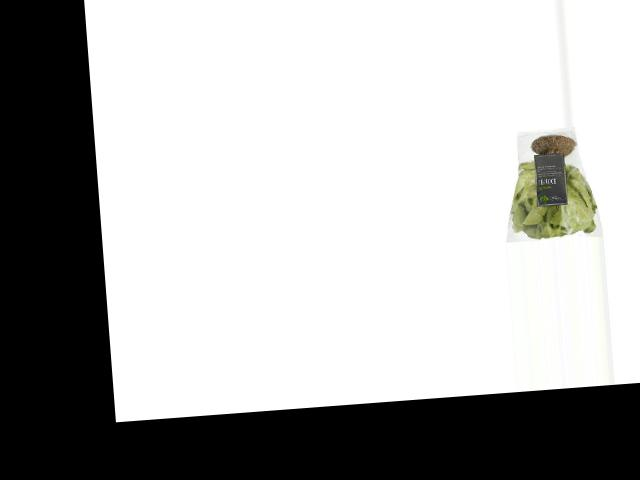lettuce: (500, 125, 602, 242)
